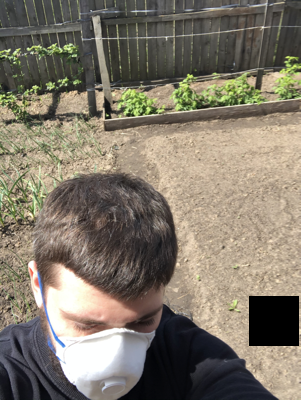with_mask: (48, 294, 164, 400)
